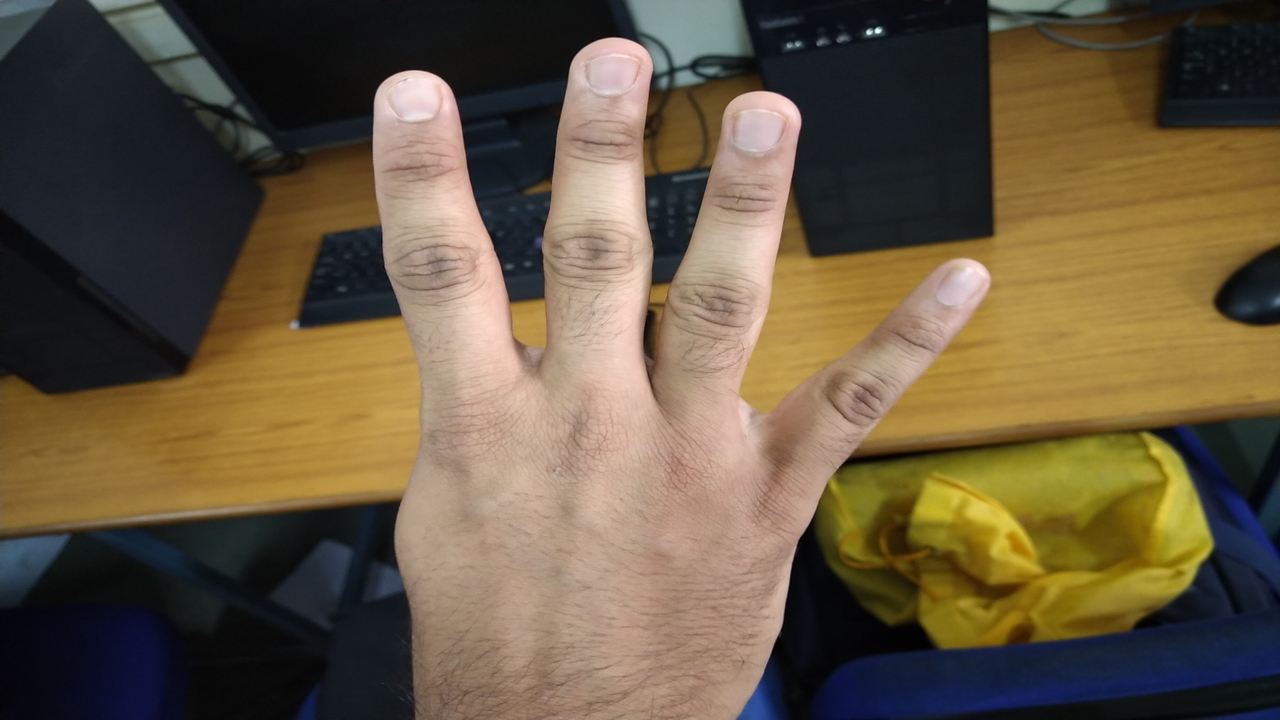fingertip: (362, 64, 466, 142), (712, 86, 800, 164), (565, 35, 655, 108), (928, 252, 1004, 312)
